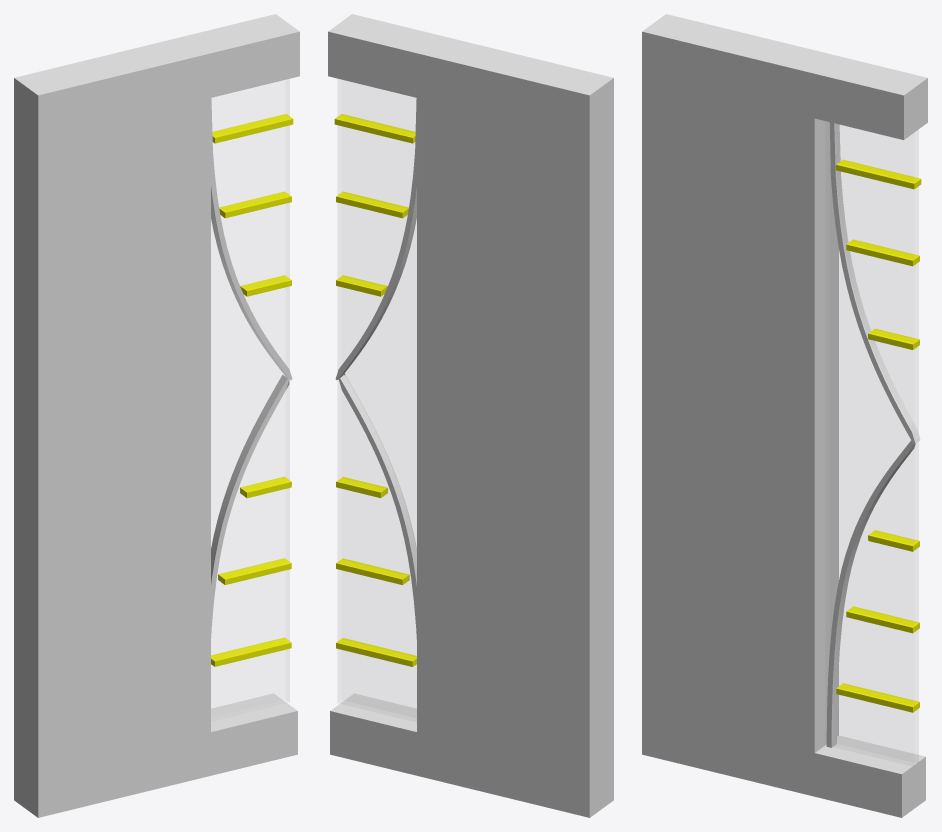
The model's file is Dooryellow.fbx.
3 views of the same model, side by side, from view 1: azimuth 30°, elevation 25°; view 2: azimuth 150°, elevation 25°; view 3: azimuth 330°, elevation 25° (orthographic).
Visible parts, largest first — view 1: pCube6, pCube5, polySurface5, polySurface4, pasted__pCube4 (×2), pasted__pasted__pCube4 (×2), pCube4, pasted__pasted__pasted__pCube4; view 2: pCube6, pCube5, polySurface5, polySurface4, pasted__pCube4 (×2), pasted__pasted__pCube4 (×2), pCube4, pasted__pasted__pasted__pCube4; view 3: pCube6, pCube5, polySurface4, polySurface5, pasted__pCube4 (×2), pasted__pasted__pCube4 (×2), pCube4, pasted__pasted__pasted__pCube4.
Boxes of the visible parts, x1,y1,x2,y2 form: pCube6: [14, 14, 299, 817]; pCube5: [211, 79, 289, 720]; polySurface5: [211, 374, 289, 637]; polySurface4: [211, 98, 292, 379]; pasted__pCube4 (×2): [212, 114, 293, 584]; pasted__pasted__pCube4 (×2): [211, 275, 291, 666]; pCube4: [219, 191, 291, 218]; pasted__pasted__pasted__pCube4: [240, 476, 291, 498]; pCube6: [328, 14, 613, 817]; pCube5: [338, 79, 416, 721]; polySurface5: [338, 373, 416, 639]; polySurface4: [335, 98, 416, 379]; pasted__pCube4 (×2): [334, 114, 415, 584]; pasted__pasted__pCube4 (×2): [336, 275, 416, 666]; pCube4: [336, 191, 408, 218]; pasted__pasted__pasted__pCube4: [336, 477, 387, 498]; pCube6: [642, 14, 927, 817]; pCube5: [826, 122, 918, 766]; polySurface4: [829, 122, 920, 444]; polySurface5: [826, 440, 915, 747]; pasted__pCube4 (×2): [836, 159, 921, 633]; pasted__pasted__pCube4 (×2): [836, 328, 919, 712]; pCube4: [846, 239, 919, 266]; pasted__pasted__pasted__pCube4: [868, 530, 919, 551].
Bounding box in the file's own units: 6.33 × 16.56 × 1.
Materials: 4 (3 with a texture image).
